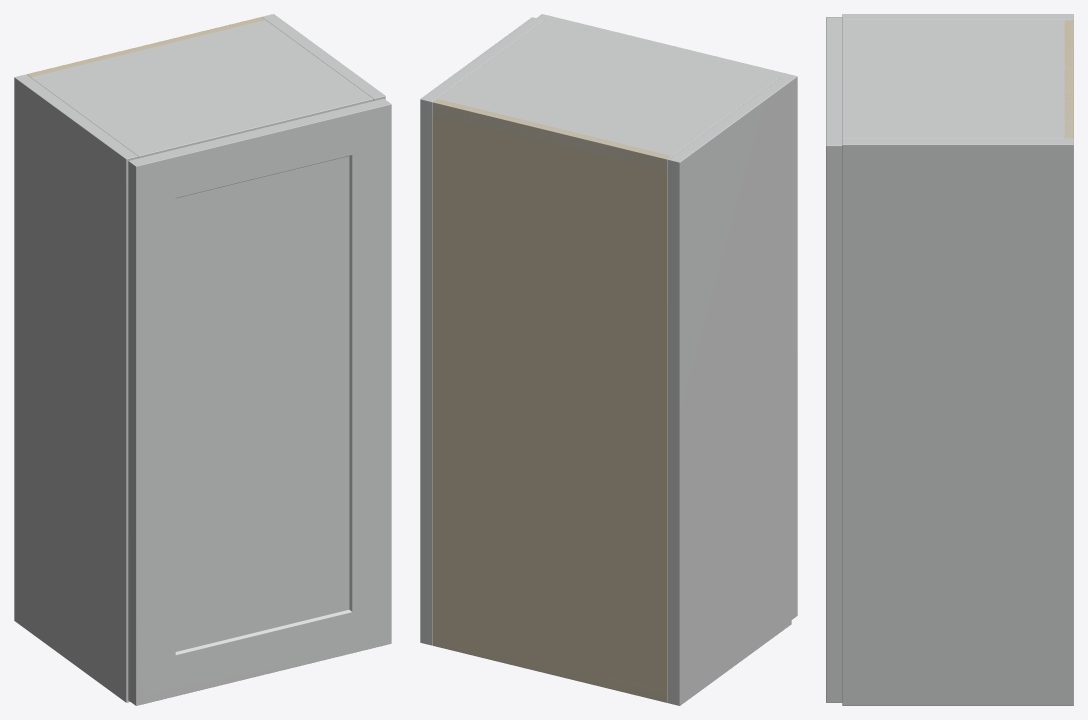
File: PLY-WSS-W1530.glb
The picture shows the model from 3 angles, left to right: view 1: azimuth 30°, elevation 25°; view 2: azimuth 150°, elevation 25°; view 3: azimuth 270°, elevation 25°; orthographic projection. The views are drawn at different scales.
Parts seen in each view (by area): view 1: Shaker door, Carcass left, Carcass top, Carcass right, Carcass back; view 2: Carcass back, Carcass left, Carcass top, Carcass right, Shaker door, Carcass bottom; view 3: Carcass right, Carcass top, Shaker door, Carcass left, Carcass back.
Part boxes in pixels (x1,y1,x2,y2): Shaker door: [128, 98, 391, 705]; Carcass left: [14, 74, 138, 702]; Carcass top: [27, 20, 373, 158]; Carcass right: [262, 14, 385, 100]; Carcass back: [27, 17, 264, 77]; Carcass back: [432, 99, 671, 702]; Carcass left: [668, 77, 791, 705]; Carcass top: [432, 20, 779, 171]; Carcass right: [420, 17, 543, 645]; Shaker door: [536, 14, 797, 619]; Carcass bottom: [436, 645, 667, 702]; Carcass right: [842, 138, 1073, 705]; Carcass top: [842, 20, 1073, 138]; Shaker door: [826, 17, 842, 702]; Carcass left: [842, 14, 1073, 20]; Carcass back: [1064, 20, 1073, 138].
Size of the model in its own units: 0.381 by 0.762 by 0.3048.
